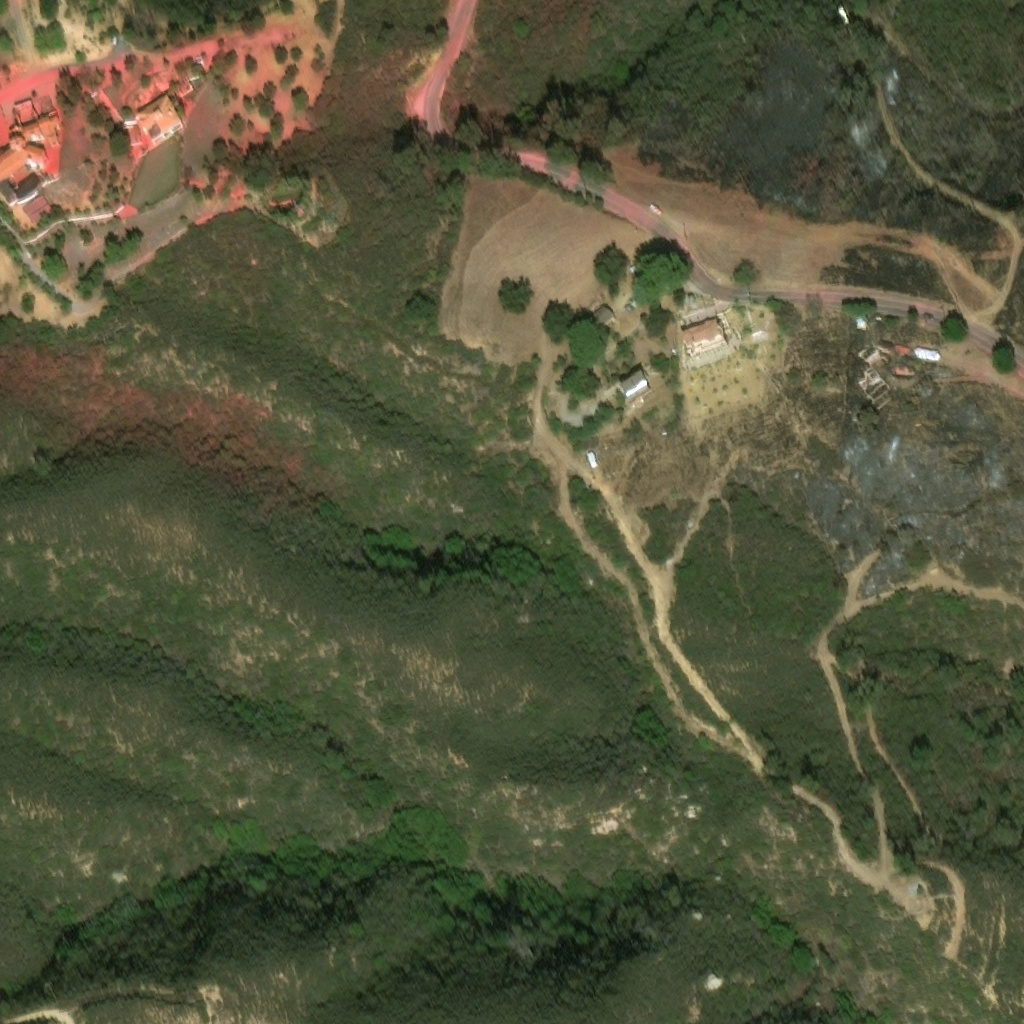0 no-damage: (681, 306, 729, 355), (619, 374, 650, 403), (591, 303, 614, 328)
1 minor-damage: (132, 95, 183, 147), (913, 344, 941, 362), (877, 337, 890, 350), (894, 343, 908, 353)
4 un-classified: (836, 3, 851, 27)
